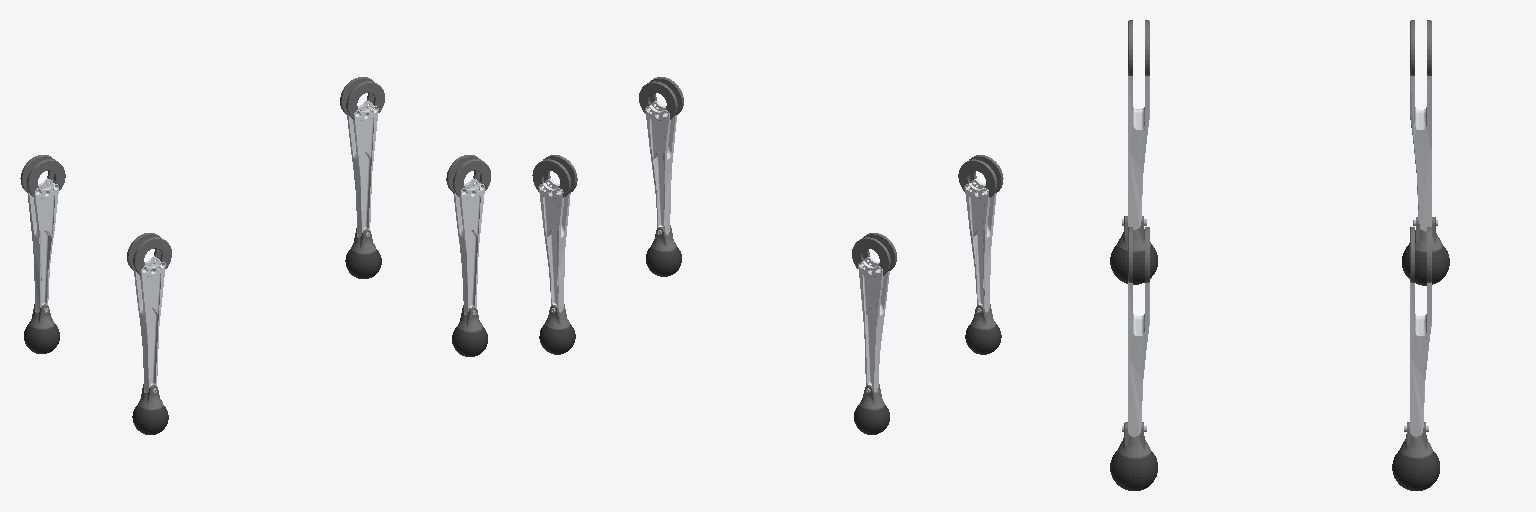
robot.urdf — mcc_simple:
<?xml version="1.0" ?>
<robot name="mcc_simple" xmlns:xacro="http://ros.org/wiki/xacro">
<!-- Base -->
<link name="base">
    <visual>
        <geometry><mesh filename="package://ocs2_robotic_assets/resources/mcc/meshes_umv_robots/mini_vision_body.dae"/></geometry>
        <origin rpy="0.0 0.0 0.0" xyz="0.0 0.0 0.0"/>
    </visual>
    <collision>
        <geometry><box size="0.30 0.20 0.10"/></geometry>
        <origin rpy="0 0 0" xyz="0 0 0.01"/>
    </collision>
    <collision>
        <geometry><sphere radius="0.05"/></geometry>
        <origin rpy="0 0 0" xyz="0.12 0.06 0.01"/>
    </collision>
    <collision>
        <geometry><sphere radius="0.05"/></geometry>
        <origin rpy="0 0 0" xyz="0.12 -0.06 0.01"/>
    </collision>
    <collision>
        <geometry><sphere radius="0.05"/></geometry>
        <origin rpy="0 0 0" xyz="-0.12 0.06 0.01"/>
    </collision>
    <collision>
        <geometry><sphere radius="0.05"/></geometry>
        <origin rpy="0 0 0" xyz="-0.12 -0.06 0.01"/>
    </collision>
</link>

<link name="base_inertia">
    <inertial>
        <origin rpy="0.0 0.0 0.0" xyz="0.0 0.0 0.0"/>
        <mass value="2.0108"/>
        <inertia ixx="0.00857941247522831" ixy="0.0" ixz="0.0" iyy="0.01695774495601654" iyz="0.0" izz="0.02178366482257843"/>
    </inertial>
</link>
<joint name="base_inertia_joint" type="fixed">
    <origin rpy="0 0 0" xyz="0 0 0"/>
    <parent link="base"/>
    <child link="base_inertia"/>
</joint>


<!-- RF Leg -->
<!-- RF Hip and HAA -->
<joint name="RF_HAA" type="revolute">
    <axis xyz="1 0 0"/>
    <origin rpy="0 0 0" xyz="0.14775 -0.049 0.0"/>
    <parent link="base"/>
    <child link="abduct_fr"/>
    <limit effort="18" lower="-1.5" upper="1.5" velocity="41"/>
</joint>

<link name="abduct_fr">
    <inertial>
        <origin rpy="-0.14322670270153148 0.0 0.0" xyz="0.054999999701976776 -0.035999998450279236 0.0"/>
        <mass value="0.72171"/>
        <inertia ixx="0.0006684197191130838" ixy="0.0" ixz="0.0" iyy="0.0009136285321805158" iyz="0.0" izz="0.0006799108814448116"/>
    </inertial>
    <visual>
        <geometry>
            <mesh filename="package://ocs2_robotic_assets/resources/mcc/meshes_umv_robots/mini_vision_abd.dae"/>
        </geometry>
        <origin rpy="0.0 0.0 0.0" xyz="0.0 0.0 0.0"/>
    </visual>
    <!-- <collision>
        <geometry><cylinder length ="0.025" radius = "0.05"/></geometry>
        <origin rpy="1.57079632679 0.0 0.0" xyz="0.052 -0.02 0.0"/>
    </collision> -->
</link>

<!-- RF Thigh and HFE -->
<joint name="RF_HFE" type="revolute">
    <axis xyz="0 -1 0"/>
    <origin rpy="0.0 0.0 0.0" xyz="0.055 -0.019 0.00"/>
    <parent link="abduct_fr"/>
    <child link="thigh_fr"/>
    <limit effort="18" lower="-2.6" upper="2.6" velocity="41"/>
</joint>

<link name="thigh_fr">
    <inertial>
        <origin rpy="0.0045182957616685115 2.362822272461429e-05 -0.5261015946763354" xyz="0.0 0.01600000075995922 -0.019999999552965164"/>
        <mass value="1.78775"/>
        <inertia ixx="0.016169944734410774" ixy="0.0" ixz="0.0" iyy="0.013982671534532799" iyz="0.0" izz="0.0036247394131612427"/>
    </inertial>
    <visual>
        <geometry>
            <mesh filename="package://ocs2_robotic_assets/resources/mcc/meshes_umv_robots/mini_vision_upper_leg.dae"/>
        </geometry>
        <origin rpy="0.0 0.0 0.0" xyz="0.0 0.0 0.0"/>
    </visual>
    <collision>
        <geometry>
            <cylinder length ="0.17" radius = "0.015"/>
        </geometry>
        <origin rpy="0 0 0" xyz="0 -0.05 -0.092"/>
    </collision>
</link>

<!-- RF Shank and KFE -->
<joint name="RF_KFE" type="revolute">
    <axis xyz="0 -1 0"/>
    <origin rpy="0.0 0 0.0" xyz="0.0 -0.049 -0.2085"/>
    <parent link="thigh_fr"/>
    <child link="shank_fr"/>
    <limit effort="28" lower="-2.7" upper="2.7" velocity="26.8"/>
</joint>

<link name="shank_fr">
    <inertial>
        <origin rpy="0.004289740172676915 0.006306204145582139 -0.027637395801773934" xyz="0.0 0.0 -0.061000000685453415"/>
        <mass value="0.11739"/>
        <inertia ixx="0.0009354346953270918" ixy="0.0" ixz="0.0" iyy="0.0009460580678116367" iyz="0.0" izz="3.225696978240411e-05"/>
    </inertial>
    <visual>
        <geometry>
            <mesh filename="package://ocs2_robotic_assets/resources/mcc/meshes_umv_robots/lower_leg.dae"/>
        </geometry>
        <origin rpy="0.0 0.0 0.0" xyz="0.0 0.0 0.0"/>
    </visual>
    <collision>
        <geometry>
            <cylinder length ="0.1" radius = "0.01"/>
        </geometry>
        <origin rpy="0 0 0" xyz="0 0 -0.1"/>
    </collision>
</link>
<!-- LF Leg -->
<!-- LF Hip and HAA -->
<joint name="LF_HAA" type="revolute">
    <axis xyz="1 0 0"/>
    <origin rpy="0 0 0" xyz="0.14775 0.049 0.0"/>
    <parent link="base"/>
    <child link="abduct_fl"/>
    <limit effort="18" lower="-1.5" upper="1.5" velocity="41"/>
</joint>

<link name="abduct_fl">
    <inertial>
        <origin rpy="-0.2709449962748738 0.006153037312526255 -0.003866471872195021" xyz="0.054999999701976776 0.035999998450279236 0.0"/>
        <mass value="0.72171"/>
        <inertia ixx="0.0013867244638617689" ixy="0.0" ixz="0.0" iyy="0.0007683276938983429" iyz="0.0" izz="0.0014850795178781473"/>
    </inertial>
    <visual>
        <geometry><mesh filename="package://ocs2_robotic_assets/resources/mcc/meshes_umv_robots/mini_vision_abd.dae"/></geometry>
        <origin rpy="3.141592 0.0 0.0" xyz="0.0 0.0 0.0"/>
    </visual>
    <!-- <collision>
        <geometry><cylinder length ="0.025" radius = "0.05"/></geometry>
        <origin rpy="1.57079632679 0.0 0.0" xyz="0.052 0.02 0.0"/>
    </collision> -->
</link>

<!-- LF Thigh and HFE -->
<joint name="LF_HFE" type="revolute">
    <axis xyz="0 -1 0"/>
    <origin rpy="0.0 0.0 0.0" xyz="0.055 0.019 0.00"/>
    <parent link="abduct_fl"/>
    <child link="thigh_fl"/>
    <limit effort="18" lower="-2.6" upper="2.6" velocity="41"/>
</joint>

<link name="thigh_fl">
    <inertial>
        <origin rpy="0.10166259372793007 -0.0003441332492841731 0.21465928688985958" xyz="0.0 0.01600000075995922 -0.019999999552965164"/>
        <mass value="1.78775"/>
        <inertia ixx="0.011918476516988349" ixy="0.0" ixz="0.0" iyy="0.011838328278892297" iyz="0.0" izz="0.001516054464559224"/>
    </inertial>
    <visual>
        <geometry>
            <mesh filename="package://ocs2_robotic_assets/resources/mcc/meshes_umv_robots/mini_vision_upper_leg.dae"/>
        </geometry>
        <origin rpy="0.0 0 3.141592" xyz="0.0 0.0 0.0"/>
    </visual>
    <collision>
        <geometry><cylinder length ="0.17" radius = "0.015"/></geometry>
        <origin rpy="0 0 0" xyz="0 0.05 -0.092"/>
    </collision>
</link>

<!-- LF Shank and KFE -->
<joint name="LF_KFE" type="revolute">
    <axis xyz="0 -1 0"/>
    <origin rpy="0.0 0 0.0" xyz="0.0 0.049 -0.2085"/>
    <parent link="thigh_fl"/>
    <child link="shank_fl"/>
    <limit effort="28" lower="-2.7" upper="2.7" velocity="26.8"/>
</joint>

<link name="shank_fl">
    <inertial>
        <origin rpy="0.004289055358260185 -0.006306222466212041 0.02763739181927516" xyz="0.0 0.0 -0.061000000685453415"/>
        <mass value="0.11739"/>
        <inertia ixx="0.0009354346956011618" ixy="0.0" ixz="0.0" iyy="0.0009460580675964972" iyz="0.0" izz="3.225696972347361e-05"/>
    </inertial>
    <visual>
        <geometry>
            <mesh filename="package://ocs2_robotic_assets/resources/mcc/meshes_umv_robots/lower_leg.dae"/>
        </geometry>
        <origin rpy="0.0 0.0 0.0" xyz="0.0 0.0 0.0"/>
    </visual>
    <collision>
        <geometry>
            <cylinder length ="0.1" radius = "0.01"/>
        </geometry>
        <origin rpy="0 0 0" xyz="0 0 -0.1"/>
    </collision>
</link>
<!-- RH Leg -->
<!-- RH Hip and HAA -->
<joint name="RH_HAA" type="revolute">
    <axis xyz="-1 0 0"/>
    <origin rpy="0 3.141592 0" xyz="-0.14775 -0.049 0.0"/>
    <parent link="base"/>
    <child link="abduct_hr"/>
    <limit effort="18" lower="-1.5" upper="1.5" velocity="41"/>
</joint>

<link name="abduct_hr">
    <inertial>
        <origin rpy="0.2709449961180592 -0.006152559313835404 -0.0038668232386669388" xyz="0.054999999701976776 -0.035999998450279236 0.0"/>
        <mass value="0.72171"/>
        <inertia ixx="0.001386724464398052" ixy="0.0" ixz="0.0" iyy="0.0007683276922718103" iyz="0.0" izz="0.0014850795189683954"/>
    </inertial>
    <visual>
        <geometry>
            <mesh filename="package://ocs2_robotic_assets/resources/mcc/meshes_umv_robots/mini_vision_abd.dae"/>
        </geometry>
        <origin rpy="0.0 0.0 0.0" xyz="0.0 0.0 0.0"/>
    </visual>
    <!-- <collision>
        <geometry><cylinder length ="0.025" radius = "0.05"/></geometry>
        <origin rpy="1.57079632679 0.0 0.0" xyz="0.052 -0.02 0.0"/>
    </collision> -->
</link>

<!-- RH Thigh and HFE -->
<joint name="RH_HFE" type="revolute">
    <axis xyz="0 -1 0"/>
    <origin rpy="0.0 3.141592 0.0" xyz="0.055 -0.019 0.00"/>
    <parent link="abduct_hr"/>
    <child link="thigh_hr"/>
    <limit effort="18" lower="-2.6" upper="2.6" velocity="41"/>
</joint>

<link name="thigh_hr">
    <inertial>
        <origin rpy="0.0045182957616685115 2.362822272461429e-05 -0.5261015946763354" xyz="0.0 0.01600000075995922 -0.019999999552965164"/>
        <mass value="1.78775"/>
        <inertia ixx="0.016169944734410774" ixy="0.0" ixz="0.0" iyy="0.013982671534532799" iyz="0.0" izz="0.0036247394131612427"/>
    </inertial>
    <visual>
        <geometry>
            <mesh filename="package://ocs2_robotic_assets/resources/mcc/meshes_umv_robots/mini_vision_upper_leg.dae"/>
        </geometry>
        <origin rpy="0.0 0.0 0.0" xyz="0.0 0.0 0.0"/>
    </visual>
    <collision>
        <geometry>
            <cylinder length ="0.17" radius = "0.015"/>
        </geometry>
        <origin rpy="0 0 0" xyz="0 -0.05 -0.092"/>
    </collision>
</link>

<!-- RH Shank and KFE -->
<joint name="RH_KFE" type="revolute">
    <axis xyz="0 -1 0"/>
    <origin rpy="0.0 0 0.0" xyz="0.0 -0.049 -0.2085"/>
    <parent link="thigh_hr"/>
    <child link="shank_hr"/>
    <limit effort="28" lower="-2.7" upper="2.7" velocity="26.8"/>
</joint>

<link name="shank_hr">
    <inertial>
        <origin rpy="0.004289740172676915 0.006306204145582139 -0.027637395801773934" xyz="0.0 0.0 -0.061000000685453415"/>
        <mass value="0.11739"/>
        <inertia ixx="0.0009354346953270918" ixy="0.0" ixz="0.0" iyy="0.0009460580678116367" iyz="0.0" izz="3.225696978240411e-05"/>
    </inertial>
    <visual>
        <geometry>
            <mesh filename="package://ocs2_robotic_assets/resources/mcc/meshes_umv_robots/lower_leg.dae"/>
        </geometry>
        <origin rpy="0.0 0.0 0.0" xyz="0.0 0.0 0.0"/>
    </visual>
    <collision>
        <geometry>
            <cylinder length ="0.1" radius = "0.01"/>
        </geometry>
        <origin rpy="0 0 0" xyz="0 0 -0.1"/>
    </collision>
</link>

<!-- LH Leg -->
<!-- LH Hip and HAA -->
<joint name="LH_HAA" type="revolute">
    <axis xyz="-1 0 0"/>
    <origin rpy="0 3.141592 0" xyz="-0.14775 0.049 0.0"/>
    <parent link="base"/>
    <child link="abduct_hl"/>
    <limit effort="18" lower="-1.5" upper="1.5" velocity="41"/>
</joint>

<link name="abduct_hl">
    <inertial>
        <origin rpy="-0.2709449962748738 0.006153037312526255 -0.003866471872195021" xyz="0.054999999701976776 0.035999998450279236 0.0"/>
        <mass value="0.72171"/>
        <inertia ixx="0.0013867244638617689" ixy="0.0" ixz="0.0" iyy="0.0007683276938983429" iyz="0.0" izz="0.0014850795178781473"/>
    </inertial>
    <visual>
        <geometry> <mesh filename="package://ocs2_robotic_assets/resources/mcc/meshes_umv_robots/mini_vision_abd.dae"/> </geometry>
        <origin rpy="3.141592 0.0 0.0" xyz="0.0 0.0 0.0"/>
    </visual>
    <!-- <collision>
        <geometry><cylinder length ="0.025" radius = "0.05"/></geometry>
        <origin rpy="1.57079632679 0.0 0.0" xyz="0.052 0.02 0.0"/>
    </collision> -->
</link>

<!-- LH Thigh and HFE -->
<joint name="LH_HFE" type="revolute">
    <axis xyz="0 -1 0"/>
    <origin rpy="0.0 3.141592 0.0" xyz="0.055 0.019 0.00"/>
    <parent link="abduct_hl"/>
    <child link="thigh_hl"/>
    <limit effort="18" lower="-2.6" upper="2.6" velocity="41"/>
</joint>

<link name="thigh_hl">
    <inertial>
        <origin rpy="0.10166259372793007 -0.0003441332492841731 0.21465928688985958" xyz="0.0 0.01600000075995922 -0.019999999552965164"/>
        <mass value="1.78775"/>
        <inertia ixx="0.011918476516988349" ixy="0.0" ixz="0.0" iyy="0.011838328278892297" iyz="0.0" izz="0.001516054464559224"/>
    </inertial>
    <visual>
        <geometry>
            <mesh filename="package://ocs2_robotic_assets/resources/mcc/meshes_umv_robots/mini_vision_upper_leg.dae"/>
        </geometry>
        <origin rpy="0.0 0 3.141592" xyz="0.0 0.0 0.0"/>
    </visual>
    <collision>
        <geometry>
            <cylinder length ="0.17" radius = "0.015"/>
        </geometry>
        <origin rpy="0 0 0" xyz="0 0.05 -0.092"/>
    </collision>
</link>

<!-- LH Shank and KFE -->
<joint name="LH_KFE" type="revolute">
    <axis xyz="0 -1 0"/>
    <origin rpy="0.0 0 0.0" xyz="0.0 0.049 -0.2085"/>
    <parent link="thigh_hl"/>
    <child link="shank_hl"/>
    <limit effort="28" lower="-2.7" upper="2.7" velocity="26.8"/>
</joint>

<link name="shank_hl">
    <inertial>
        <origin rpy="0.004289055358260185 -0.006306222466212041 0.02763739181927516" xyz="0.0 0.0 -0.061000000685453415"/>
        <mass value="0.11739"/>
        <inertia ixx="0.0009354346956011618" ixy="0.0" ixz="0.0" iyy="0.0009460580675964972" iyz="0.0" izz="3.225696972347361e-05"/>
    </inertial>
    <visual>
        <geometry>
            <mesh filename="package://ocs2_robotic_assets/resources/mcc/meshes_umv_robots/lower_leg.dae"/>
        </geometry>
        <origin rpy="0.0 0.0 3.141592" xyz="0.0 0.0 0.0"/>
    </visual>
    <collision>
        <geometry>
            <cylinder length ="0.1" radius = "0.01"/>
        </geometry>
        <origin rpy="0 0 0" xyz="0 0 -0.1"/>
    </collision>
</link>

<!-- LH FOOT -->
<joint name="LH_shank_fixed_LH_FOOT" type="fixed">
    <parent link="shank_hl"/>
    <child link="LH_FOOT"/>
    <origin rpy="0.0 0.0 0.0" xyz="0.0 0.0 -0.22"/>
</joint>

<link name="LH_FOOT">
    <collision>
        <origin xyz="0 0.0 0.024"/>
        <geometry><sphere radius="0.0202"/></geometry>
    </collision>
    <inertial>
        <origin rpy="0.0 0.0 0.0" xyz="0.0 0.0 0.0"/>
        <mass value="0.04945"/>
        <inertia ixx="3.655422551673837e-05" ixy="0.0" ixz="0.0" iyy="3.655422551673837e-05" iyz="0.0" izz="8.071028787526302e-06"/>
    </inertial>
</link>


<!-- RH FOOT -->
<joint name="RH_shank_fixed_RH_FOOT" type="fixed">
    <parent link="shank_hr"/>
    <child link="RH_FOOT"/>
    <origin rpy="0.0 0.0 0.0" xyz="0.0 0.0 -0.22"/>
</joint>

<link name="RH_FOOT">
    <collision>
        <origin xyz="0 0.0 0.024"/>
        <geometry><sphere radius="0.0202"/></geometry>
    </collision>
    <inertial>
        <origin rpy="0.0 0.0 0.0" xyz="0.0 0.0 -0.0"/>
        <mass value="0.04945"/>
        <inertia ixx="3.655422551673837e-05" ixy="0.0" ixz="0.0" iyy="3.655422551673837e-05" iyz="0.0" izz="8.071028787526302e-06"/>
    </inertial>
</link>

<!-- LF FOOT -->
<joint name="LF_shank_fixed_LF_FOOT" type="fixed">
    <parent link="shank_fl"/>
    <child link="LF_FOOT"/>
    <origin rpy="0.0 0.0 0.0" xyz="0.0 0.0 -0.22"/>
</joint>

<link name="LF_FOOT">
    <collision>
        <origin xyz="0 0.0 0.024"/>
        <geometry><sphere radius="0.0202"/></geometry>
    </collision>
    <inertial>
        <origin rpy="0.0 0.0 0.0" xyz="0.0 0.0 0.0"/>
        <mass value="0.04945"/>
        <inertia ixx="3.655422551673837e-05" ixy="0.0" ixz="0.0" iyy="3.655422551673837e-05" iyz="0.0" izz="8.071028787526302e-06"/>
    </inertial>
</link>


<!-- RF FOOT -->
<joint name="RF_shank_fixed_RF_FOOT" type="fixed">
    <parent link="shank_fr"/>
    <child link="RF_FOOT"/>
    <origin rpy="0.0 0.0 0.0" xyz="0.0 0.0 -0.22"/>
</joint>

<link name="RF_FOOT">
    <collision>
        <origin xyz="0 0.0 0.024"/>
        <geometry><sphere radius="0.0202"/></geometry>
    </collision>
    <inertial>
        <origin rpy="0.0 0.0 0.0" xyz="0.0 0.0 0.0"/>
        <mass value="0.04945"/>
        <inertia ixx="3.655422551673837e-05" ixy="0.0" ixz="0.0" iyy="3.655422551673837e-05" iyz="0.0" izz="8.071028787526302e-06"/>
    </inertial>
</link>


</robot>

--- Render facts (derived) ---
The picture shows the robot from 3 angles, left to right: view 1: azimuth 30°, elevation 25°; view 2: azimuth 150°, elevation 25°; view 3: azimuth 270°, elevation 25°; orthographic projection.
Model mcc_simple with 18 links and 17 joints (12 revolute, 5 fixed), rooted at base, posed every joint at zero.
Links seen in each view (by area): view 1: shank_fl, shank_hr, shank_fr, shank_hl; view 2: shank_hl, shank_fr, shank_hr, shank_fl; view 3: shank_fl, shank_fr, shank_hr, shank_hl.
Link boxes in pixels (bbox=[...]): shank_fl: bbox=[340, 77, 384, 278]; shank_hr: bbox=[127, 233, 171, 434]; shank_fr: bbox=[446, 155, 490, 356]; shank_hl: bbox=[20, 155, 65, 353]; shank_hl: bbox=[852, 233, 896, 434]; shank_fr: bbox=[639, 77, 683, 276]; shank_hr: bbox=[958, 155, 1003, 354]; shank_fl: bbox=[532, 155, 577, 354]; shank_fl: bbox=[1392, 227, 1439, 490]; shank_fr: bbox=[1110, 227, 1157, 490]; shank_hr: bbox=[1110, 20, 1157, 284]; shank_hl: bbox=[1402, 20, 1449, 285].
Size in the robot's own frame: 0.4529 by 0.2819 by 0.2381 metres.
4 mesh visuals loaded from 4 distinct referenced files (1 Collada DAE); not drawn: 9 (reference not matched to a file when rendering).